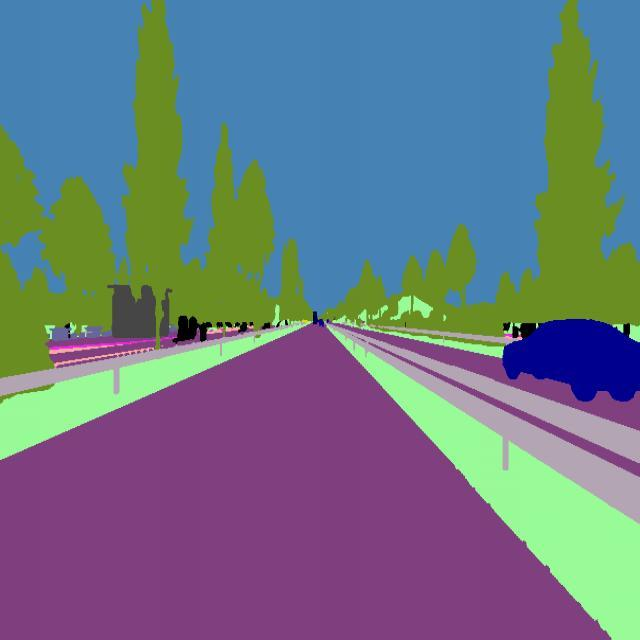safe: (501, 312, 640, 408)
